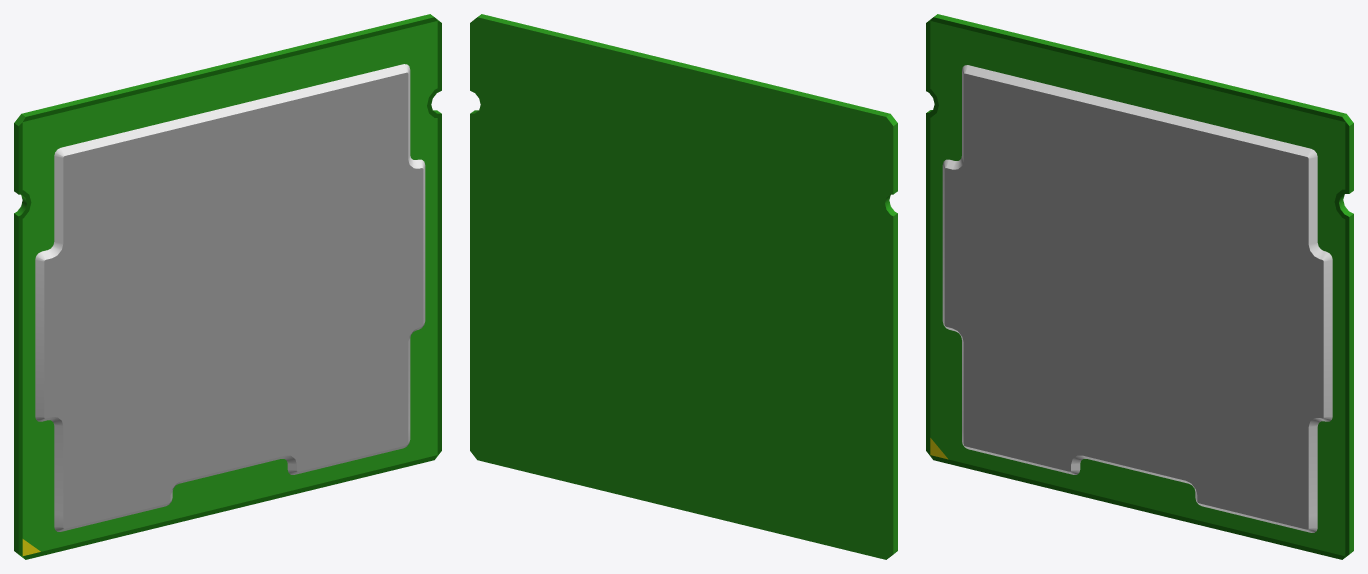
The model's file is cpu.glb.
3 views of the same model, side by side, from view 1: azimuth 30°, elevation 25°; view 2: azimuth 150°, elevation 25°; view 3: azimuth 330°, elevation 25° (orthographic).
Parts seen in each view (by area): view 1: CPU; view 2: CPU; view 3: CPU.
Part boxes in pixels (<box>): CPU: <box>14,14,441,559</box>; CPU: <box>470,14,897,559</box>; CPU: <box>926,14,1353,559</box>.
Bounding box in the file's own units: 3.41 × 3.41 × 0.1112.
